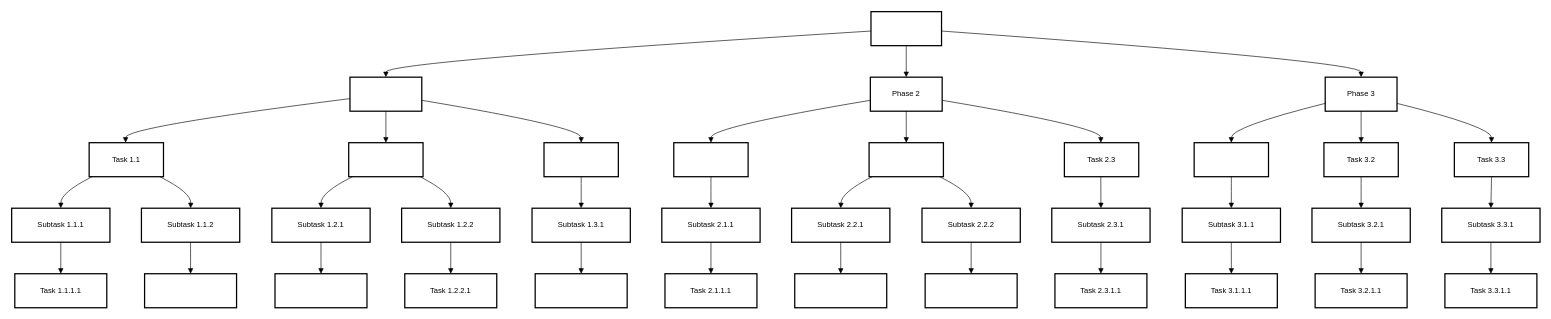
This 1551x319 diagram has some shape labels left out. Each missing label, with the centre of its shape:
Phase 1: the point at 385,94
Project: the point at 906,28
Task 1.1.2.1: the point at 190,290
Task 1.2: the point at 385,159
Task 1.2.1.1: the point at 320,290
Task 1.3: the point at 581,159
Task 1.3.1.1: the point at 580,290
Task 2.1: the point at 710,159
Task 2.2: the point at 906,159
Task 2.2.1.1: the point at 840,290
Task 2.2.2.1: the point at 970,290
Task 3.1: the point at 1231,159
